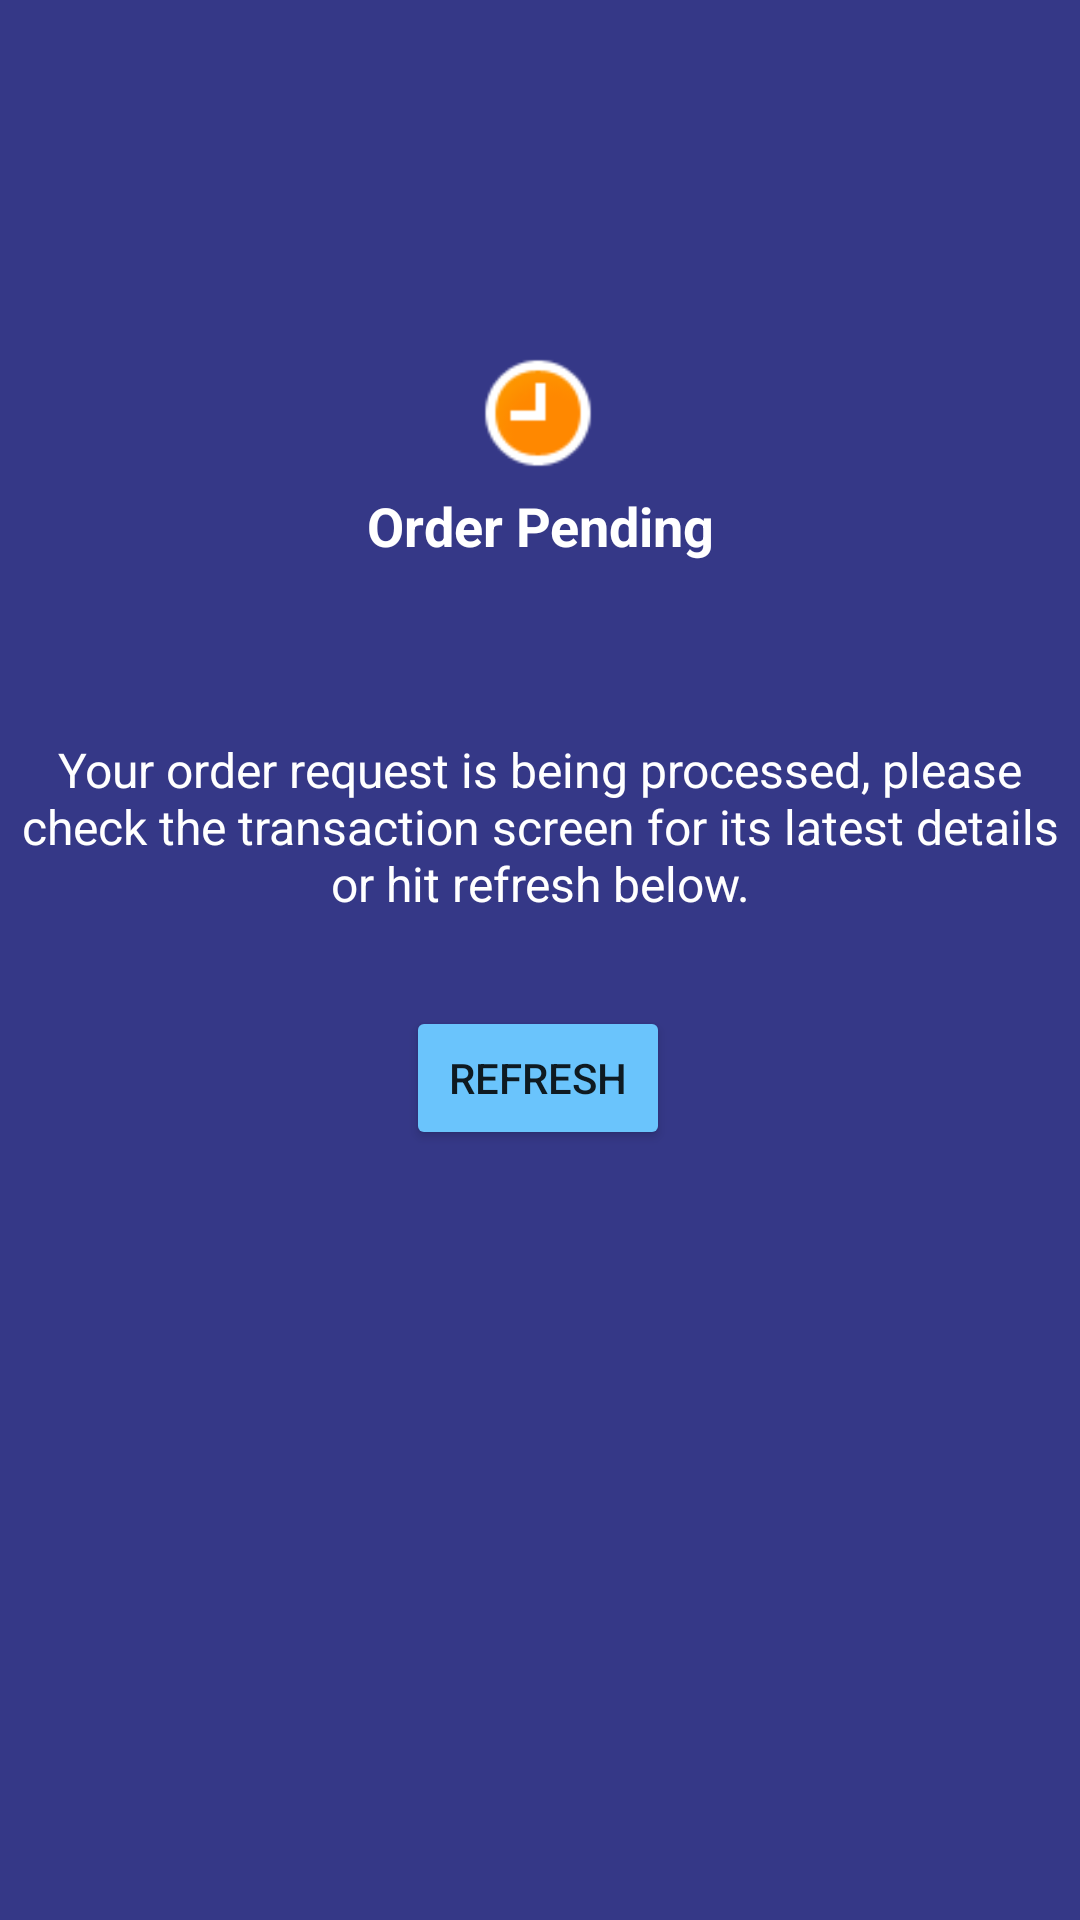

Screen size 1080×1920. Icon name, then its center in pixels as point (x, y):
presence away: point (538, 413)
